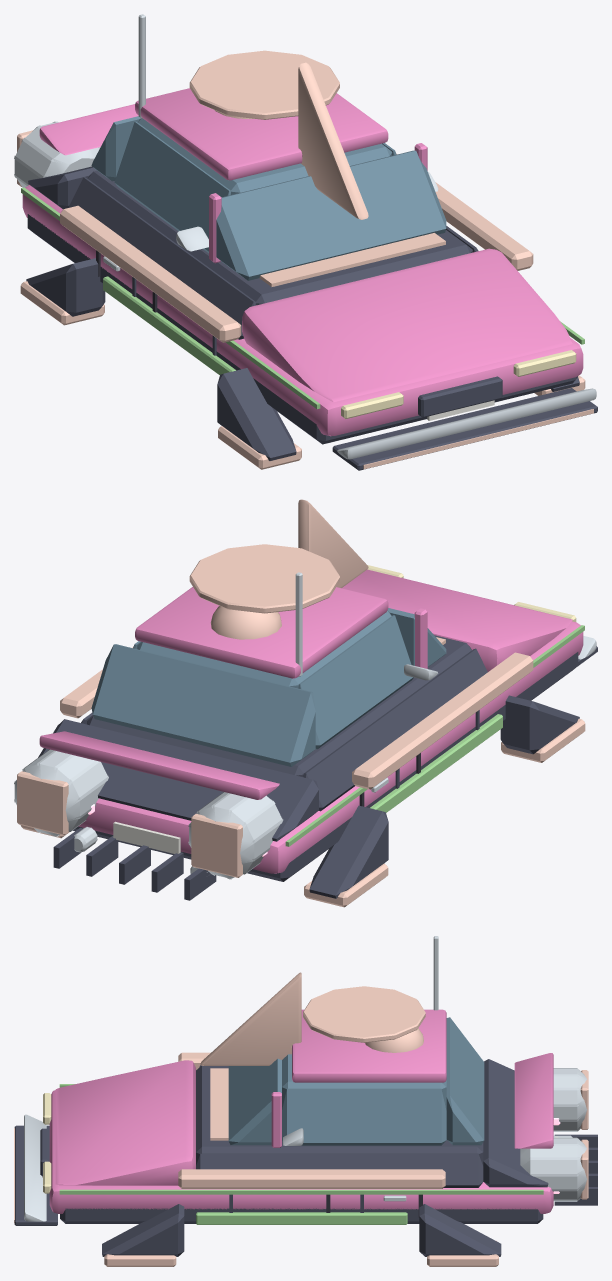
Rendered from circuit_cycler.fbx.
3 renders of one model, top to bottom at view 1: azimuth 30°, elevation 25°; view 2: azimuth 150°, elevation 25°; view 3: azimuth 270°, elevation 25°, orthographic. The views are drawn at different scales.
Visible parts, largest first — view 1: Body, Trim, Glass, Light, Accent3, Accent, Accent2, Light2; view 2: Body, Trim, Glass, Light, Accent, Accent2, Accent3, Accent4, Metal; view 3: Body, Trim, Glass, Light, Accent, Accent3, Accent2, Light2.
Part boxes in pixels (bbox=[...]): Body: bbox=[22, 88, 583, 436]; Trim: bbox=[26, 166, 597, 470]; Glass: bbox=[91, 116, 446, 280]; Light: bbox=[17, 50, 593, 469]; Accent3: bbox=[259, 62, 445, 286]; Accent: bbox=[14, 14, 596, 459]; Accent2: bbox=[21, 187, 584, 409]; Light2: bbox=[341, 350, 576, 418]; Body: bbox=[39, 569, 583, 873]; Trim: bbox=[38, 635, 597, 900]; Glass: bbox=[91, 608, 446, 766]; Light: bbox=[17, 544, 585, 907]; Accent: bbox=[14, 572, 596, 879]; Accent2: bbox=[285, 625, 584, 846]; Accent3: bbox=[298, 499, 445, 644]; Accent4: bbox=[113, 821, 180, 853]; Metal: bbox=[74, 777, 388, 873]; Body: bbox=[49, 1009, 553, 1213]; Trim: bbox=[14, 1059, 597, 1256]; Glass: bbox=[228, 1017, 484, 1145]; Light: bbox=[14, 986, 588, 1266]; Accent: bbox=[24, 936, 587, 1221]; Accent3: bbox=[200, 972, 301, 1140]; Accent2: bbox=[59, 1084, 543, 1224]; Light2: bbox=[43, 1093, 51, 1193].
Bounding box in the file's own units: 3 × 2.52 × 5.68.
